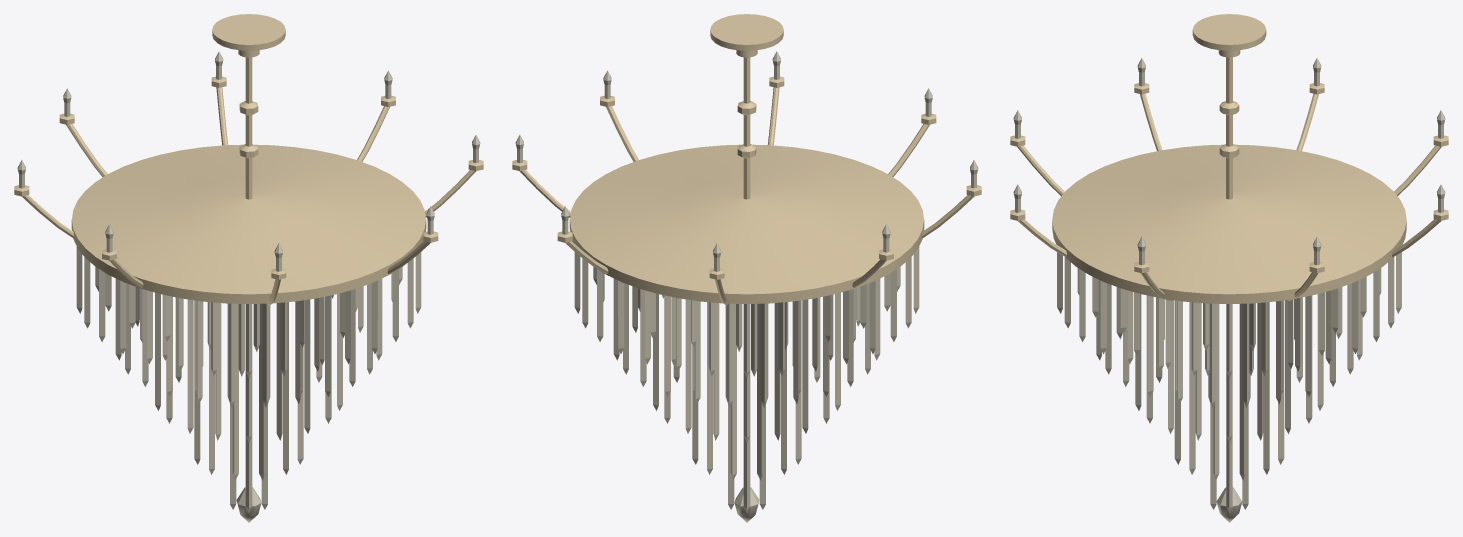
The model's file is KC32__AD_Int_Chandelier.glb.
3 views of the same model, side by side, from view 1: azimuth 30°, elevation 25°; view 2: azimuth 150°, elevation 25°; view 3: azimuth 270°, elevation 25° (orthographic).
Visible parts, largest first — view 1: KC32_BRONZE__AD_Int_Chandelier, KC32_LUMIERE__AD_Int_Chandelier; view 2: KC32_BRONZE__AD_Int_Chandelier, KC32_LUMIERE__AD_Int_Chandelier; view 3: KC32_BRONZE__AD_Int_Chandelier, KC32_LUMIERE__AD_Int_Chandelier.
Part boxes in pixels (x1,y1,x2,y2): KC32_BRONZE__AD_Int_Chandelier: (14,14,483,305); KC32_LUMIERE__AD_Int_Chandelier: (17,51,480,522); KC32_BRONZE__AD_Int_Chandelier: (512,14,981,305); KC32_LUMIERE__AD_Int_Chandelier: (515,51,978,522); KC32_BRONZE__AD_Int_Chandelier: (1010,14,1448,303); KC32_LUMIERE__AD_Int_Chandelier: (1013,58,1445,522).
Size of the model in its own units: 2.04 by 2.52 by 2.03.
